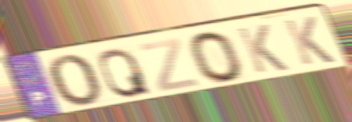K: (281, 14, 338, 67), (234, 22, 291, 75)
O: (45, 53, 106, 109), (187, 30, 247, 85)
Q: (97, 46, 154, 100)
Z: (137, 36, 201, 94)
